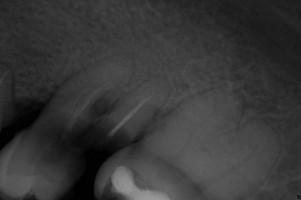Endo-Periodontal Lesion: (91, 92, 121, 116)
